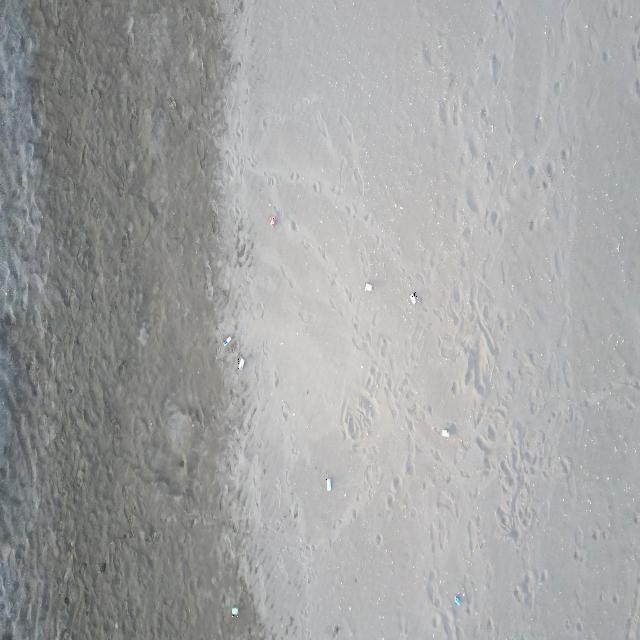Garbage: (453, 593, 462, 606), (236, 356, 243, 369), (440, 427, 449, 437), (364, 281, 372, 291), (409, 292, 416, 303), (224, 336, 231, 346), (231, 606, 238, 615), (327, 476, 331, 491), (272, 216, 276, 227)
